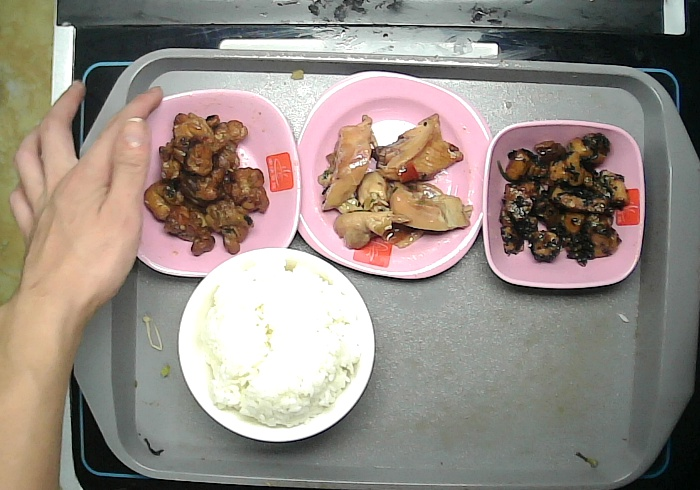SHKJ-Fan_Wan: (178, 248, 374, 441)
SHKJ-Fen_Se_Cai_Die: (118, 88, 301, 276)
SHKJ-Fen_Se_Si_Fang_Cai_Die: (293, 70, 493, 281)
SHKJ-Fen_Se_Xiao_Fang_Die: (482, 119, 645, 288)
